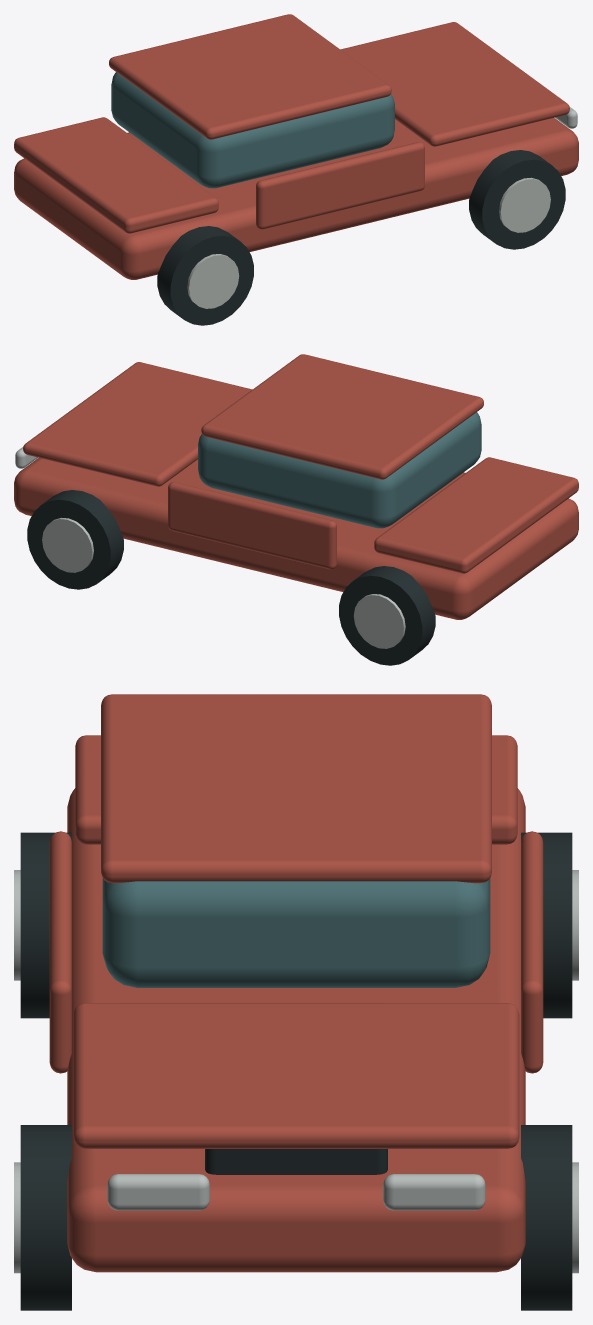
3 views of the same model, one above another, from view 1: azimuth 30°, elevation 25°; view 2: azimuth 150°, elevation 25°; view 3: azimuth 270°, elevation 25° (orthographic). The views are drawn at different scales.
Visible parts, largest first — view 1: e30body_frame, e30body_roof, e30body_hood, e30body_cabin, e30body_trunk, e30body_door-right, wheel_rear-right, wheel_front-right, hub_front-right, hub_rear-right; view 2: e30body_frame, e30body_roof, e30body_hood, e30body_cabin, e30body_trunk, e30body_door-left, wheel_rear-left, wheel_front-left, hub_front-left, hub_rear-left; view 3: e30body_roof, e30body_hood, e30body_frame, e30body_cabin, wheel_front-left, wheel_front-right, wheel_rear-left, wheel_rear-right, e30body_trunk, e30body_door-left, e30body_door-right, e30_radiator (+6 smaller).
Boxes of the visible parts, bbox=[...] form: e30body_frame: bbox=[14, 118, 578, 279]; e30body_roof: bbox=[109, 14, 391, 139]; e30body_hood: bbox=[340, 22, 569, 146]; e30body_cabin: bbox=[111, 72, 394, 188]; e30body_trunk: bbox=[14, 117, 218, 233]; e30body_door-right: bbox=[256, 142, 424, 229]; wheel_rear-right: bbox=[157, 226, 253, 325]; wheel_front-right: bbox=[469, 150, 565, 249]; hub_front-right: bbox=[499, 177, 550, 232]; hub_rear-right: bbox=[187, 254, 239, 308]; e30body_frame: bbox=[14, 458, 578, 619]; e30body_roof: bbox=[201, 354, 483, 479]; e30body_hood: bbox=[23, 362, 252, 486]; e30body_cabin: bbox=[198, 412, 481, 528]; e30body_trunk: bbox=[374, 457, 578, 573]; e30body_door-left: bbox=[168, 482, 336, 569]; wheel_rear-left: bbox=[339, 566, 435, 665]; wheel_front-left: bbox=[27, 490, 123, 589]; hub_front-left: bbox=[42, 517, 93, 572]; hub_rear-left: bbox=[353, 594, 405, 648]; e30body_roof: bbox=[101, 694, 491, 883]; e30body_hood: bbox=[73, 1003, 519, 1148]; e30body_frame: bbox=[67, 788, 525, 1272]; e30body_cabin: bbox=[102, 878, 490, 987]; wheel_front-left: bbox=[521, 1125, 572, 1310]; wheel_front-right: bbox=[20, 1125, 71, 1310]; wheel_rear-left: bbox=[521, 832, 572, 1018]; wheel_rear-right: bbox=[20, 832, 71, 1018]; e30body_trunk: bbox=[75, 735, 517, 844]; e30body_door-left: bbox=[521, 831, 543, 1073]; e30body_door-right: bbox=[49, 831, 71, 1073]; e30_radiator: bbox=[205, 1149, 387, 1174].
Bounding box in the file's own units: 3.2 × 1.15 × 1.76.
